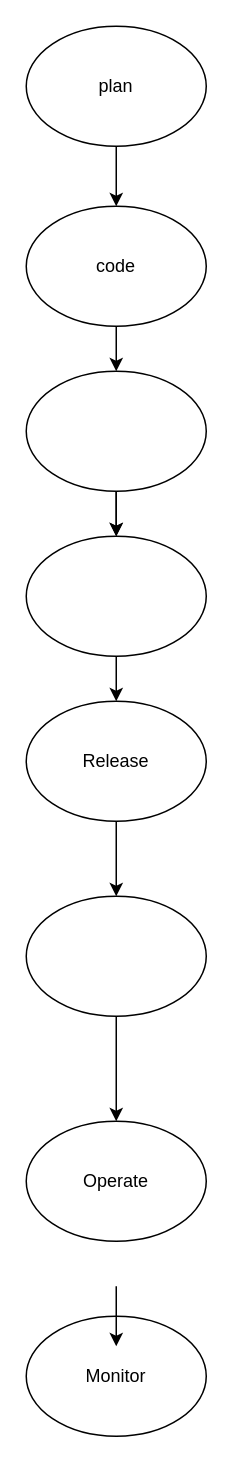
This 233x1463 diagram has some shape labels left out. Each missing label, with the centre of its shape:
bulid: pixel 115 430
Deploy: pixel 115 955
test: pixel 115 595
